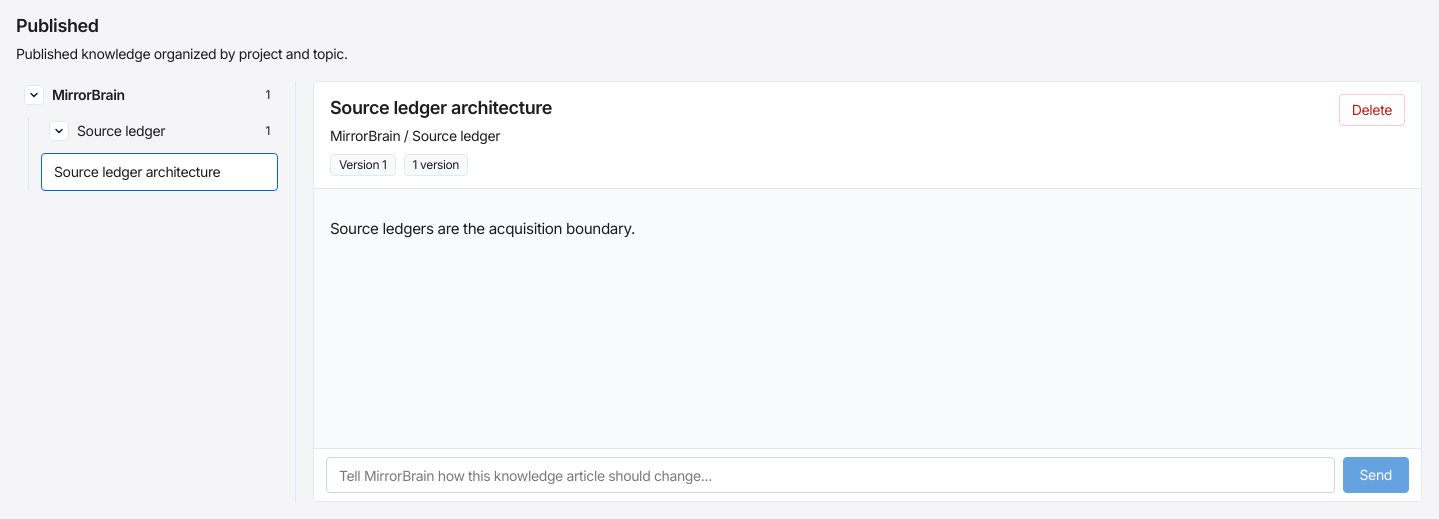
Scenario: WorkSessionAnalysisPanel › deletes published knowledge from the Published panel and refreshes the tree
The image size is (1439, 519).
Expected: the element with test id "published-knowledge-panel" shows "Source ledger architecture", [330,97,552,118]
Click the button with aria-label "Delete published knowledge Source ledger architecture": (1372,110) [1339,94,1405,126]
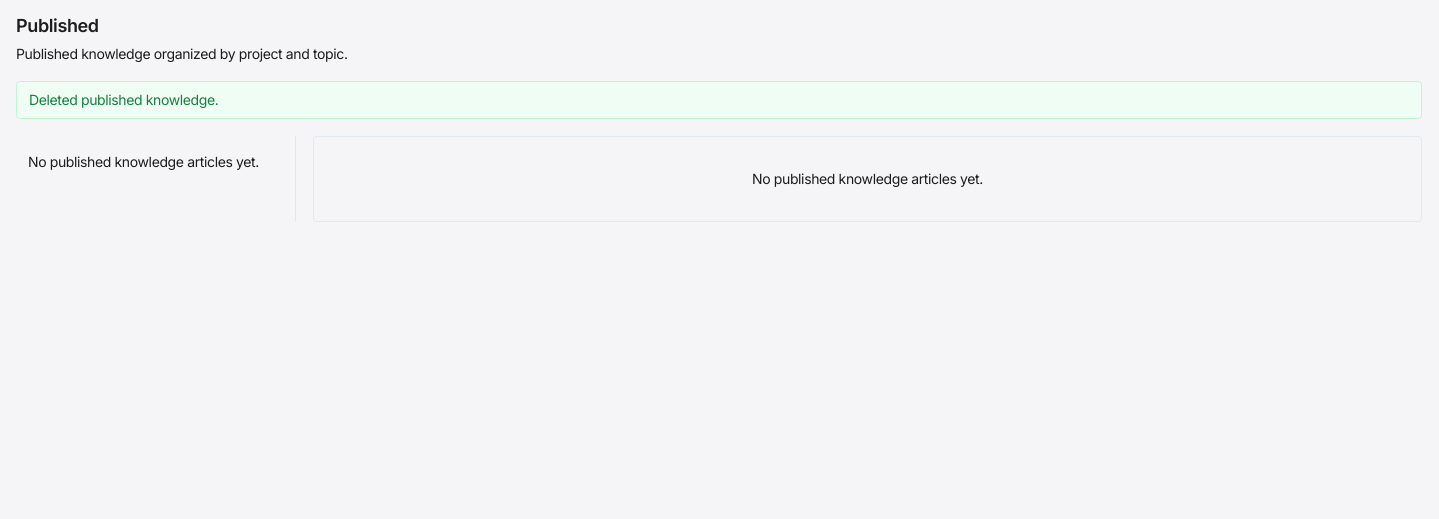
Now the text "Deleted published knowledge." is shown, box [16,81,1422,119]
Now the text with test id "published-knowledge-panel" reads "No published knowledge articles yet.", box [752,170,983,187]
Now the button "Source ledger architecture" is gone
